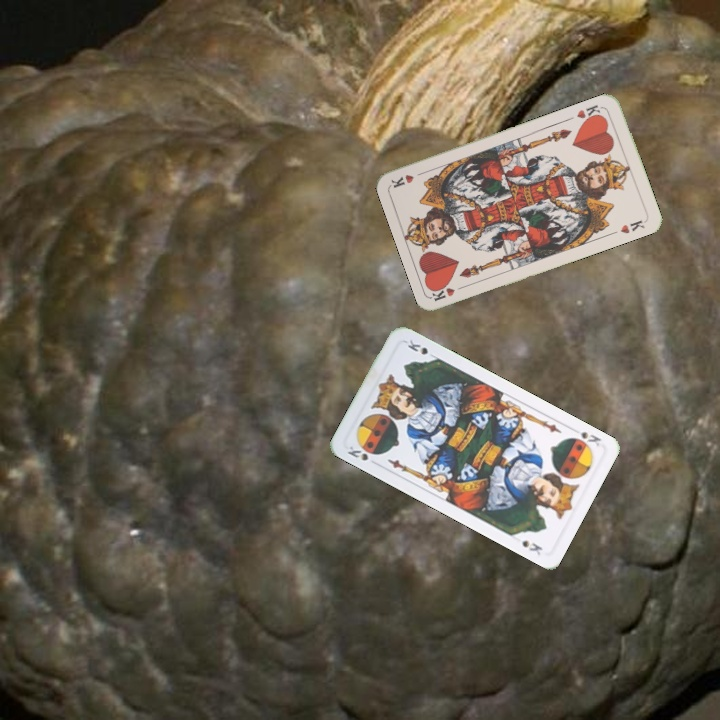HK: (428, 280, 469, 304), (573, 101, 606, 125)
SK: (567, 424, 604, 449), (343, 441, 371, 463)
